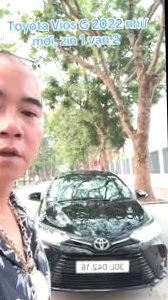Bien-so: (80, 255, 131, 268)
